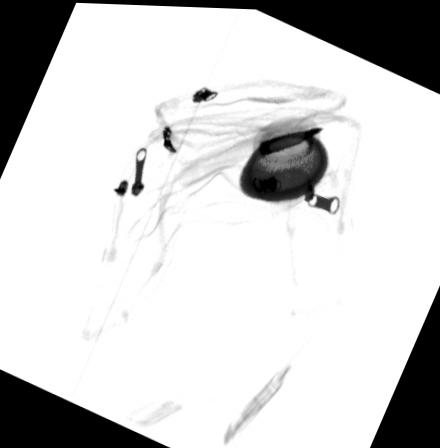Bullet: (256, 124, 324, 155)
